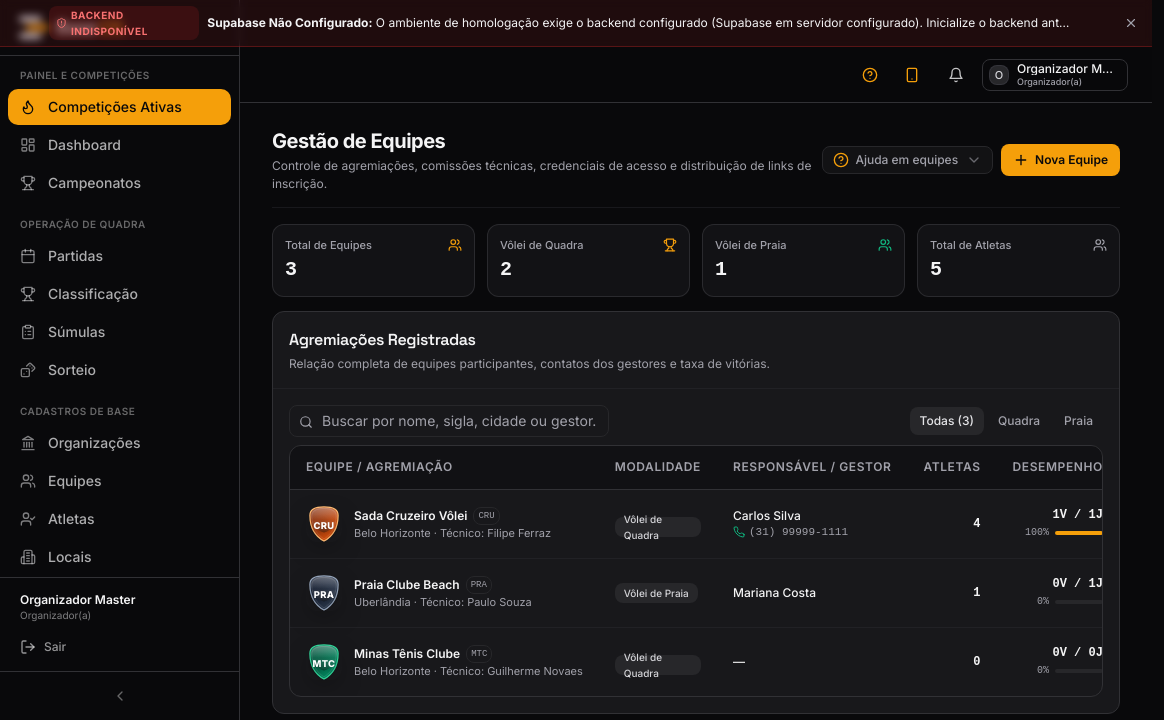
TeamsPage & Elenco de Atletas (Fase 7.5) › filtra as equipes por termo de busca e modalidade
Expected: the text "Sada Cruzeiro Vôlei" is shown, [354,508,467,524]
// Filtro por texto
In the field with placeholder "Buscar por nome, sigla, cidade ou gestor...": (449, 420) [289,404,609,436], type "Cruzeiro"
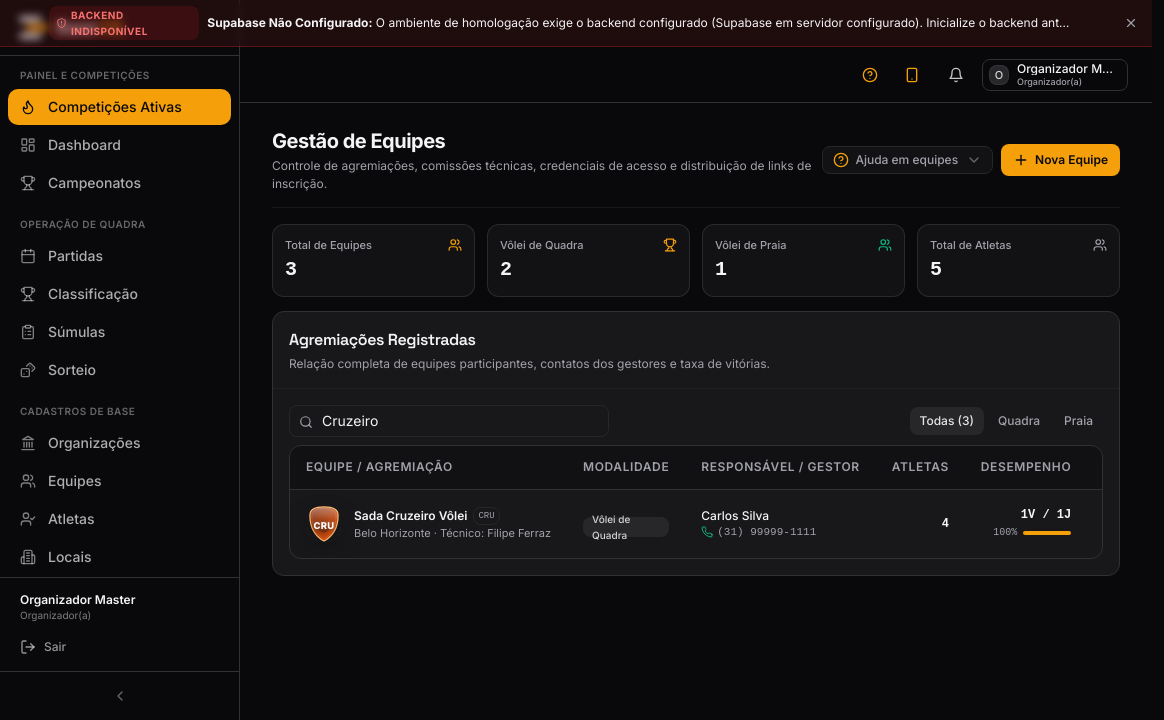
Expected: the text "Sada Cruzeiro Vôlei" is shown, [354,508,467,524]
Expected: the button "Praia Clube Beach" is gone
// Limpar busca e filtrar por modalidade "Praia" usando nome exato
Clear the field with placeholder "Buscar por nome, sigla, cidade ou gestor...": (449, 420) [289,404,609,436]
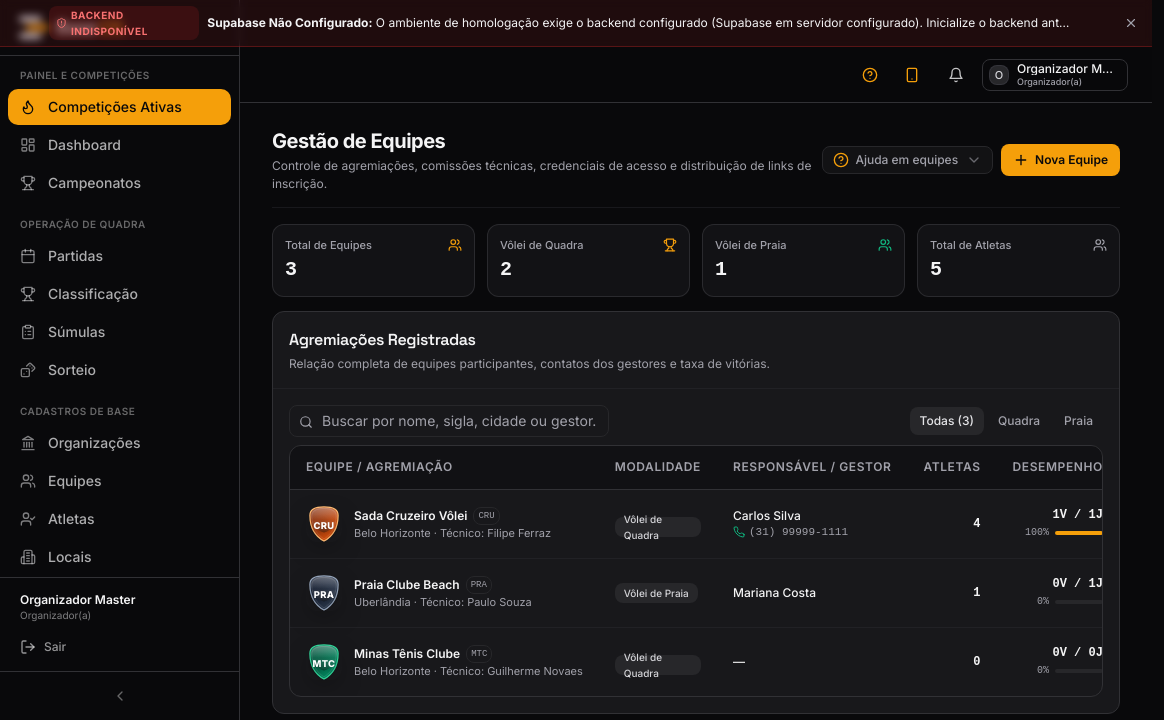
Click the button "Praia": click(1079, 420) [1054,406,1103,434]
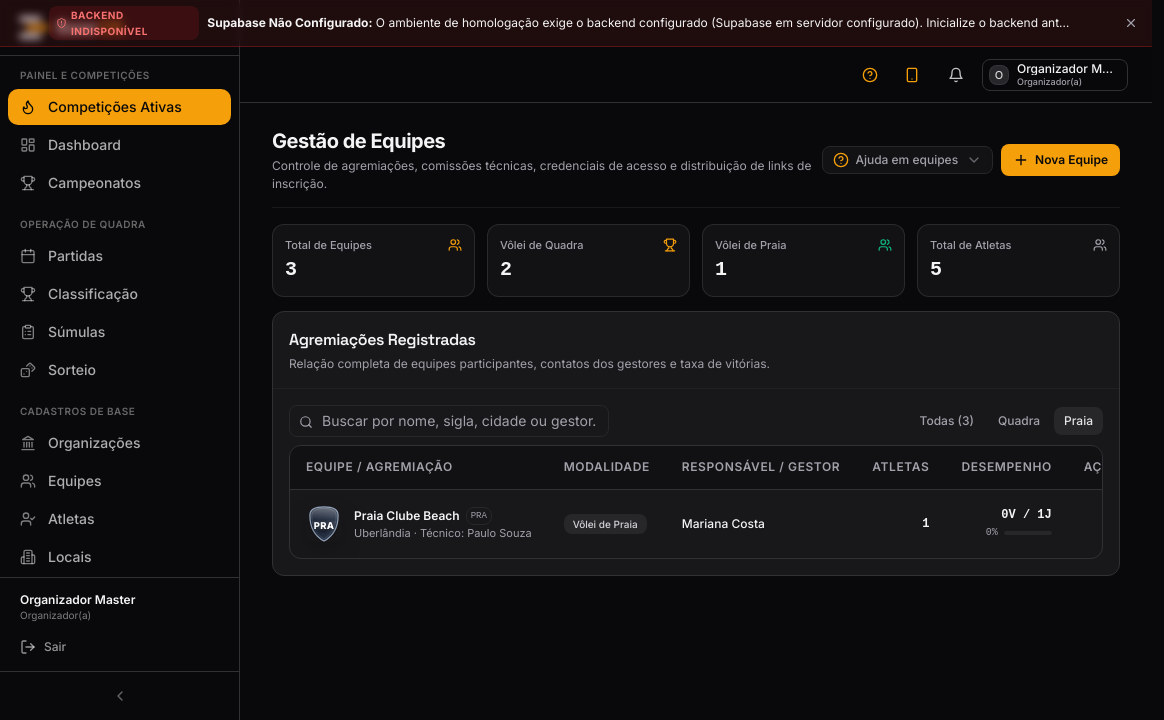
Expected: the text "Praia Clube Beach" is shown, [354,508,460,524]
Expected: the button "Sada Cruzeiro Vôlei" is gone
